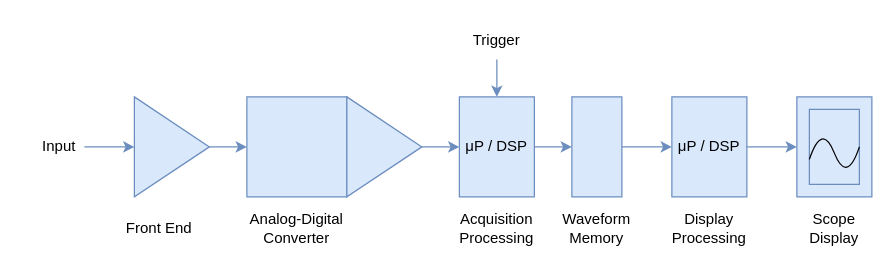
The diagram is 894 pixels wide and 268 high, and some of its shapes have lost their labels. Here are the shapes that lost their labels. From the top down, the centre of each, then its label:
[296,146]: ADC
[596,146]: RAM
